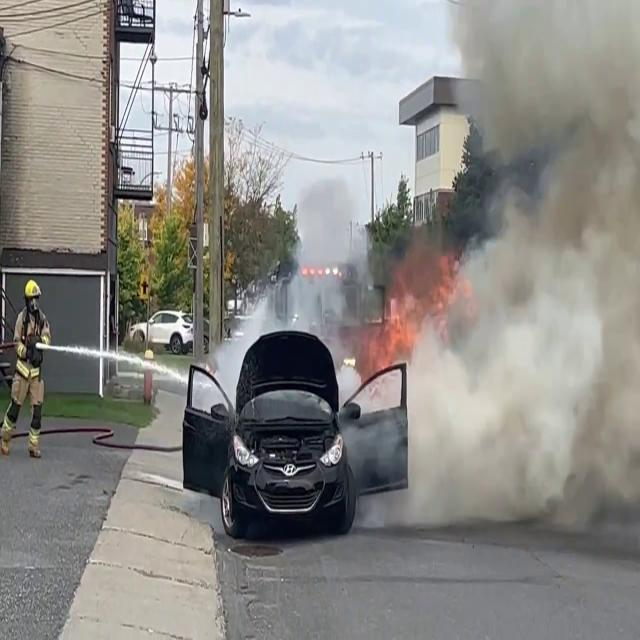Fire: (364, 263, 435, 373)
Smoke: (415, 0, 640, 543), (258, 153, 372, 367)
